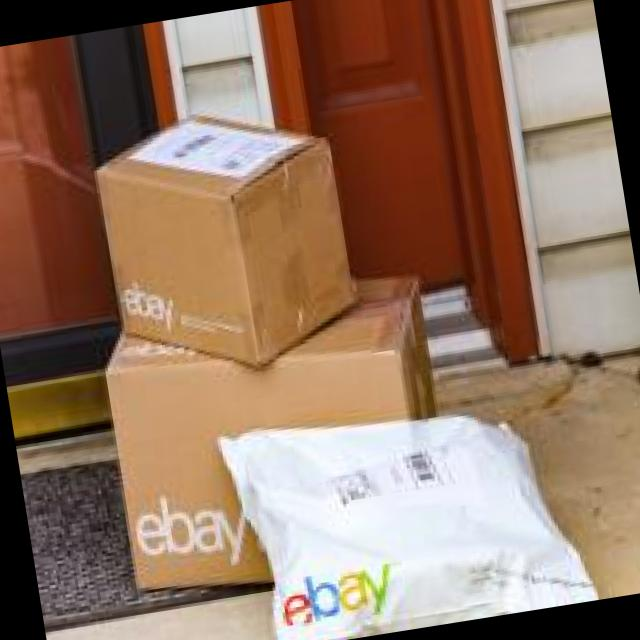box: (18, 19, 612, 621)
crushed: (127, 115, 467, 319)
tear: (518, 61, 610, 98)
